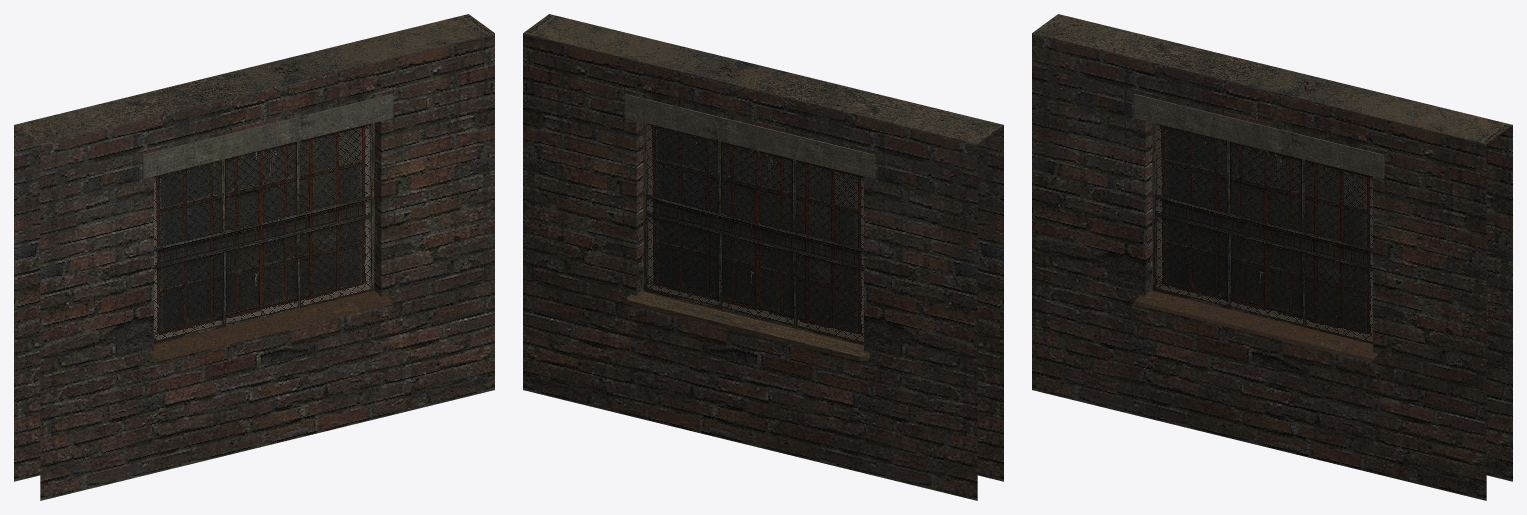
The model's file is window_hs_1.glb.
3 views of the same model, side by side, from view 1: azimuth 30°, elevation 25°; view 2: azimuth 150°, elevation 25°; view 3: azimuth 330°, elevation 25° (orthographic).
Parts seen in each view (by area): view 1: window_hs_1; view 2: window_hs_1; view 3: window_hs_1.
Part boxes in pixels (x1,y1,x2,y2): window_hs_1: [14, 14, 494, 500]; window_hs_1: [523, 14, 1003, 500]; window_hs_1: [1032, 14, 1512, 500].
Size of the model in its own units: 4 by 3 by 0.595.
Materials: 6 (6 with a texture image).
